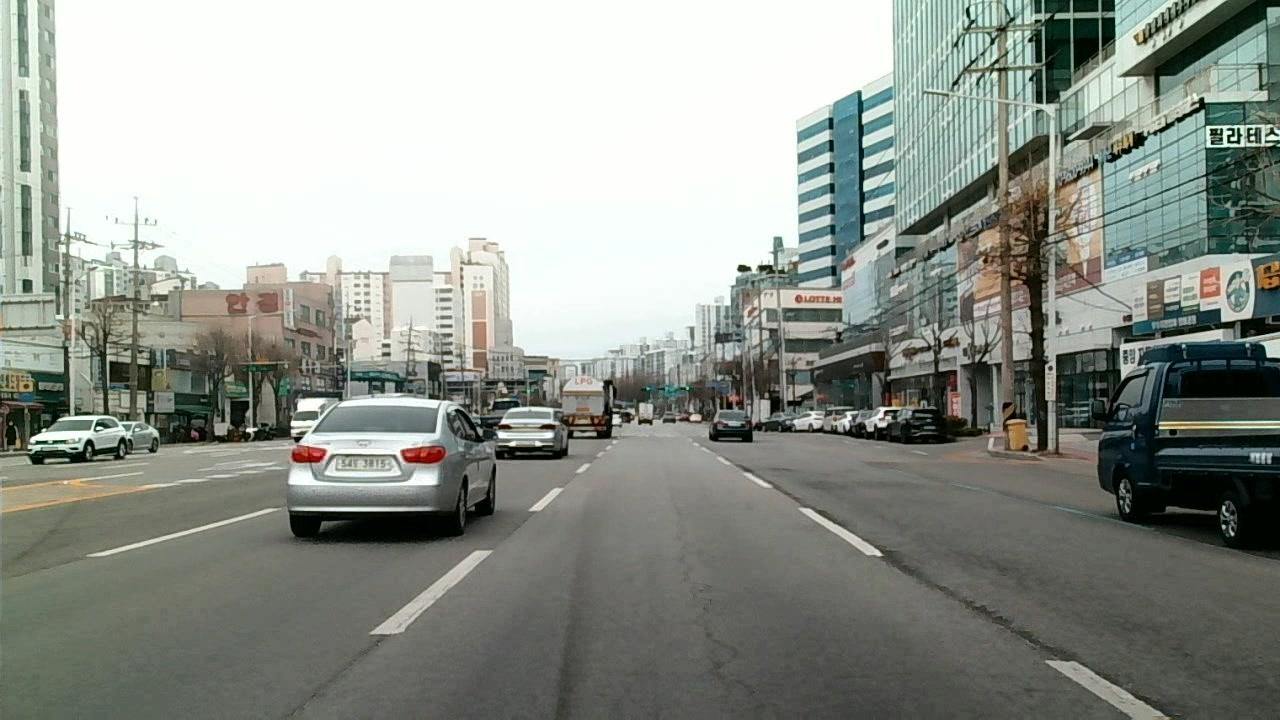banner: (885, 552, 1061, 656), (275, 636, 385, 720), (694, 590, 753, 720), (492, 512, 532, 549), (807, 505, 848, 531), (769, 481, 801, 509)
